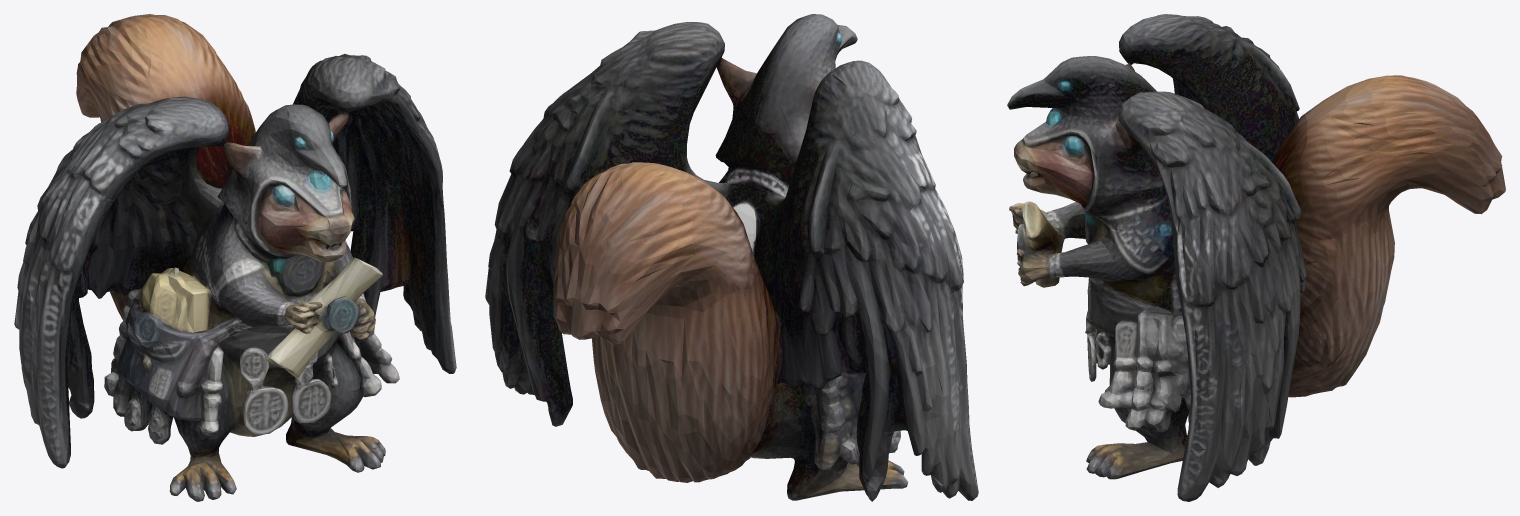
The model's file is quillshade__muninnsHeir.glb.
The picture shows the model from 3 angles, left to right: view 1: azimuth 30°, elevation 25°; view 2: azimuth 150°, elevation 25°; view 3: azimuth 270°, elevation 25°; orthographic projection. The views are drawn at different scales.
Visible parts, largest first — view 1: world; view 2: world; view 3: world.
Boxes of the visible parts, bbox=[...] form: world: bbox=[14, 14, 456, 501]; world: bbox=[485, 14, 978, 501]; world: bbox=[1007, 14, 1505, 501].
Size of the model in its own units: 0.8394 by 0.7421 by 0.8818.
1 material, 1 textured.
